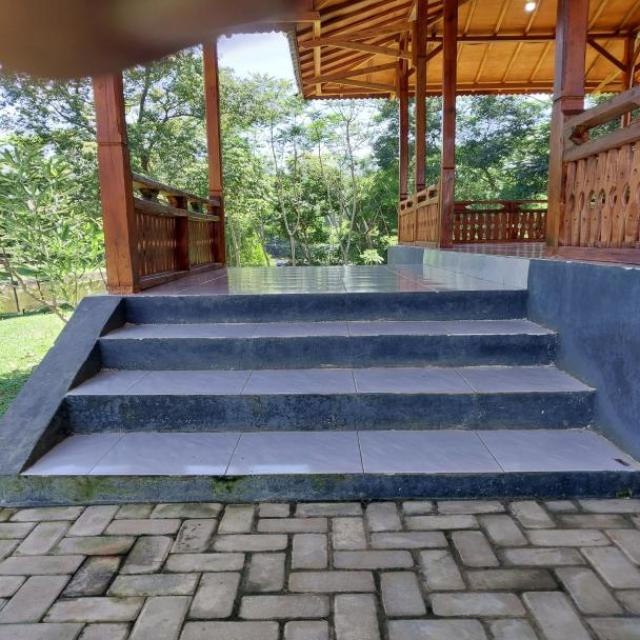stairs ahead at: (26, 287, 636, 505)
